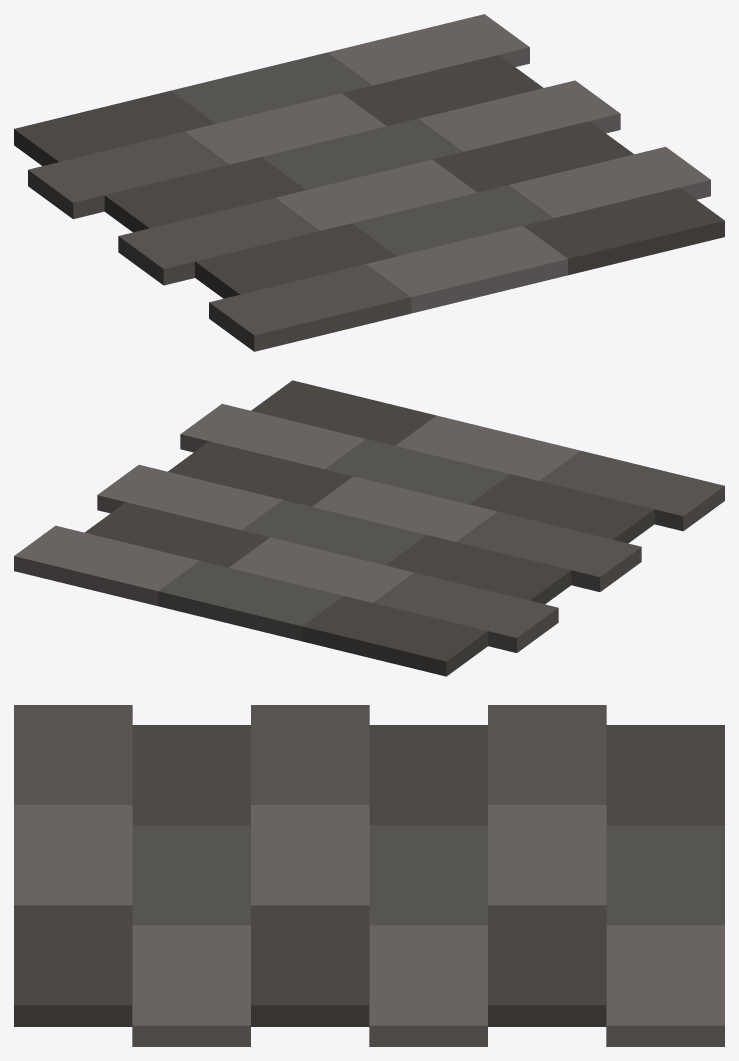
Rendered from Chão do Centro.obj.
3 views of the same model, one above another, from view 1: azimuth 30°, elevation 25°; view 2: azimuth 150°, elevation 25°; view 3: azimuth 270°, elevation 25° (orthographic). The views are drawn at different scales.
Bounding box in the file's own units: 3.2 × 0.1 × 3.
Materials: 1 (1 with a texture image).
